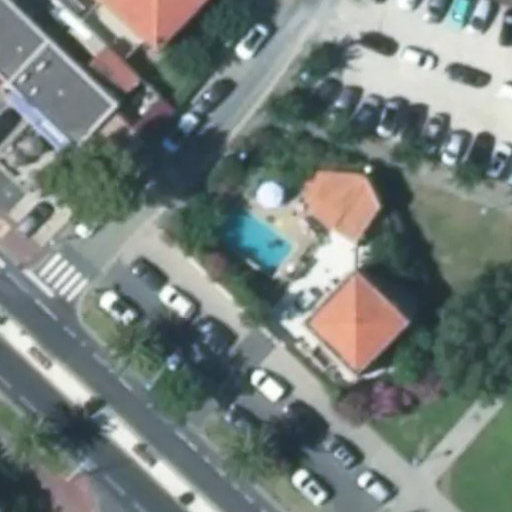pool: (207, 205, 300, 284)
